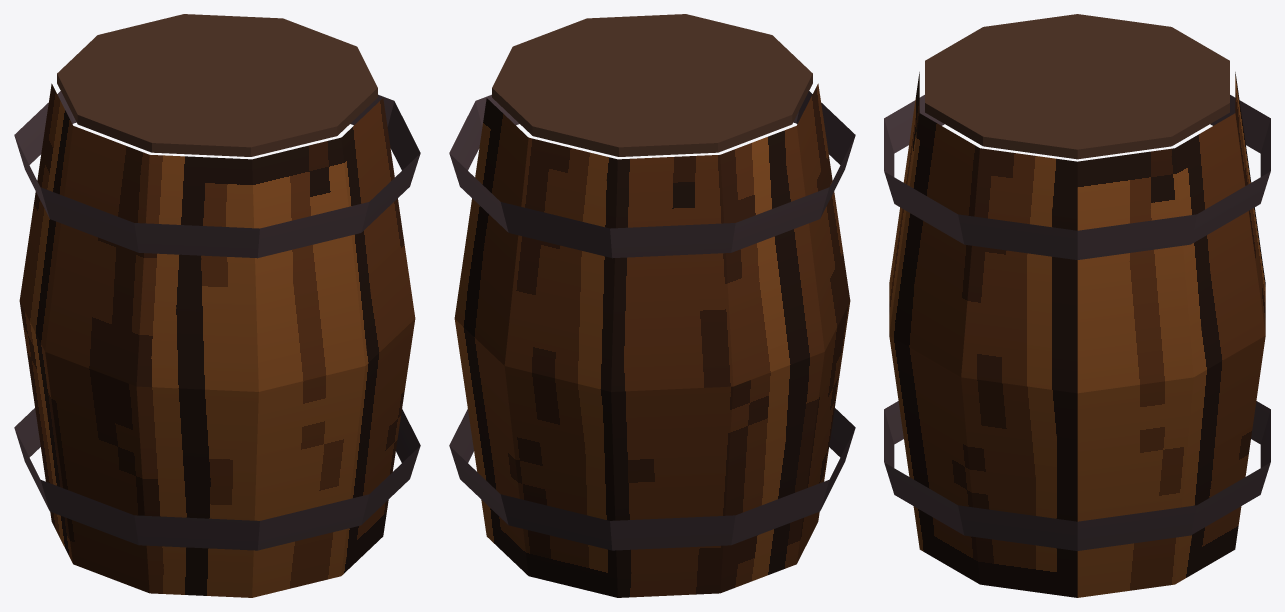
Rendered from barrel.glb.
The picture shows the model from 3 angles, left to right: view 1: azimuth 30°, elevation 25°; view 2: azimuth 150°, elevation 25°; view 3: azimuth 270°, elevation 25°; orthographic projection.
Visible parts, largest first — view 1: barrel; view 2: barrel; view 3: barrel.
Boxes of the visible parts, x1,y1,x2,y2 form: barrel: (14, 14, 420, 597); barrel: (449, 14, 855, 597); barrel: (884, 14, 1270, 597).
Bounding box in the file's own units: 0.76 × 0.92 × 0.7228.
Materials: 2 (1 with a texture image).
